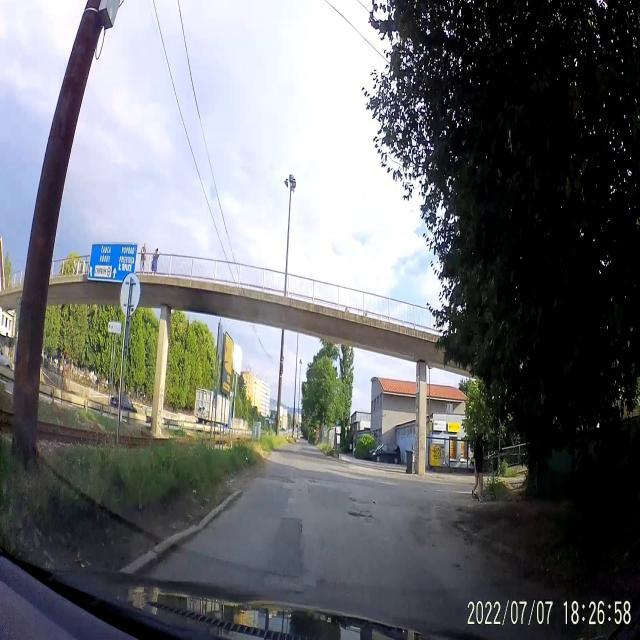Pothole: (344, 502, 374, 528), (304, 474, 323, 486)
